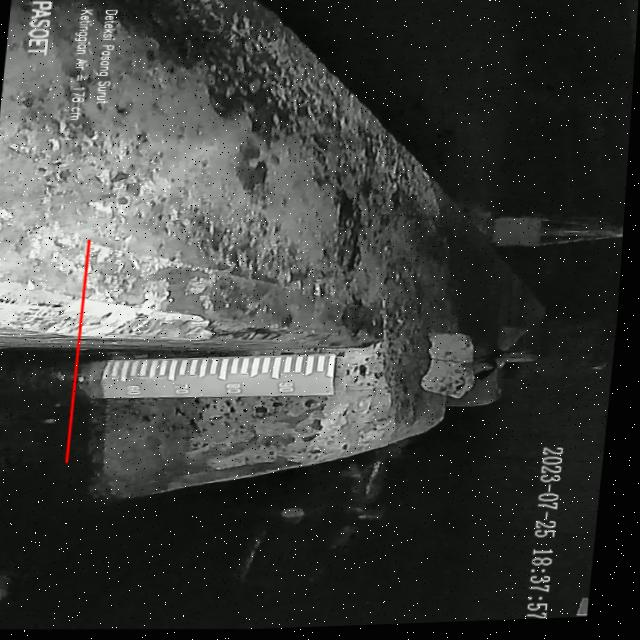water-meter: (78, 338, 348, 410)
